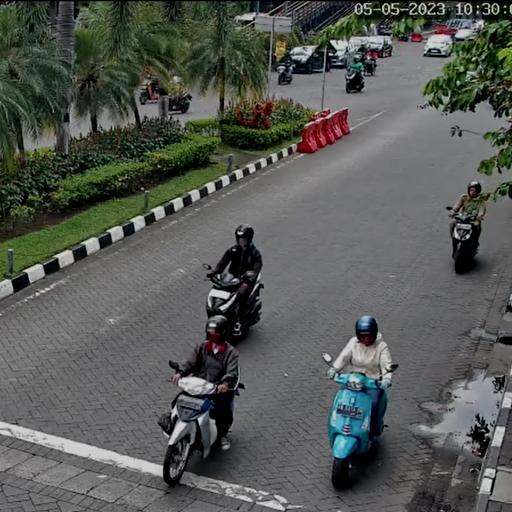motor: (318, 353, 398, 492), (162, 361, 247, 489), (200, 260, 261, 350), (444, 203, 486, 277)
